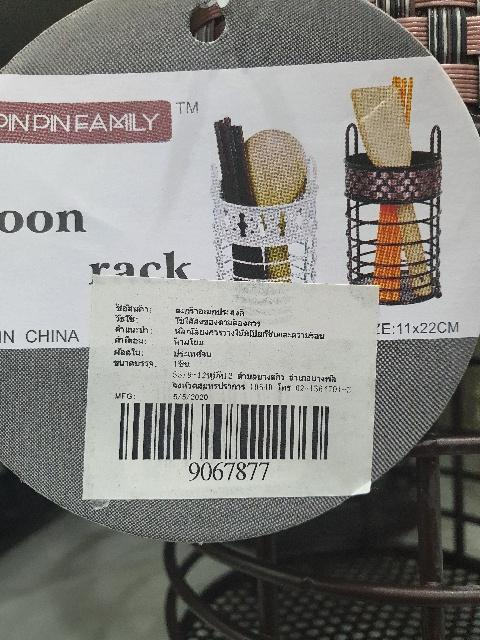Barcode: (110, 392, 342, 482)
